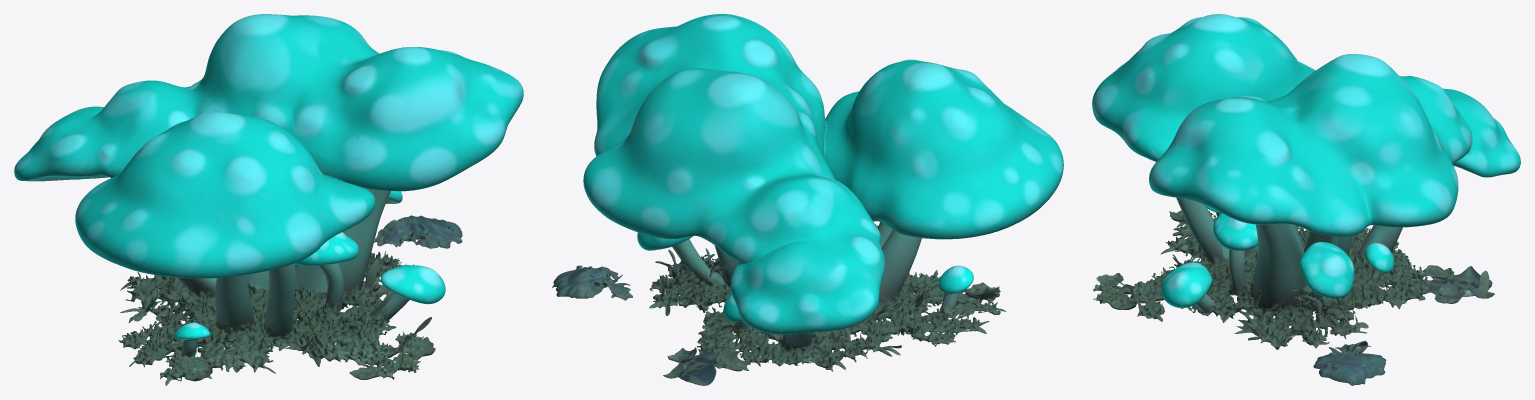
The model's file is altitude_cogumelo.glb.
3 renders of one model, left to right at view 1: azimuth 30°, elevation 25°; view 2: azimuth 150°, elevation 25°; view 3: azimuth 270°, elevation 25°, orthographic. The views are drawn at different scales.
Bounding box in the file's own units: 1.9 × 1.08 × 1.74.
1 material, 1 textured.
